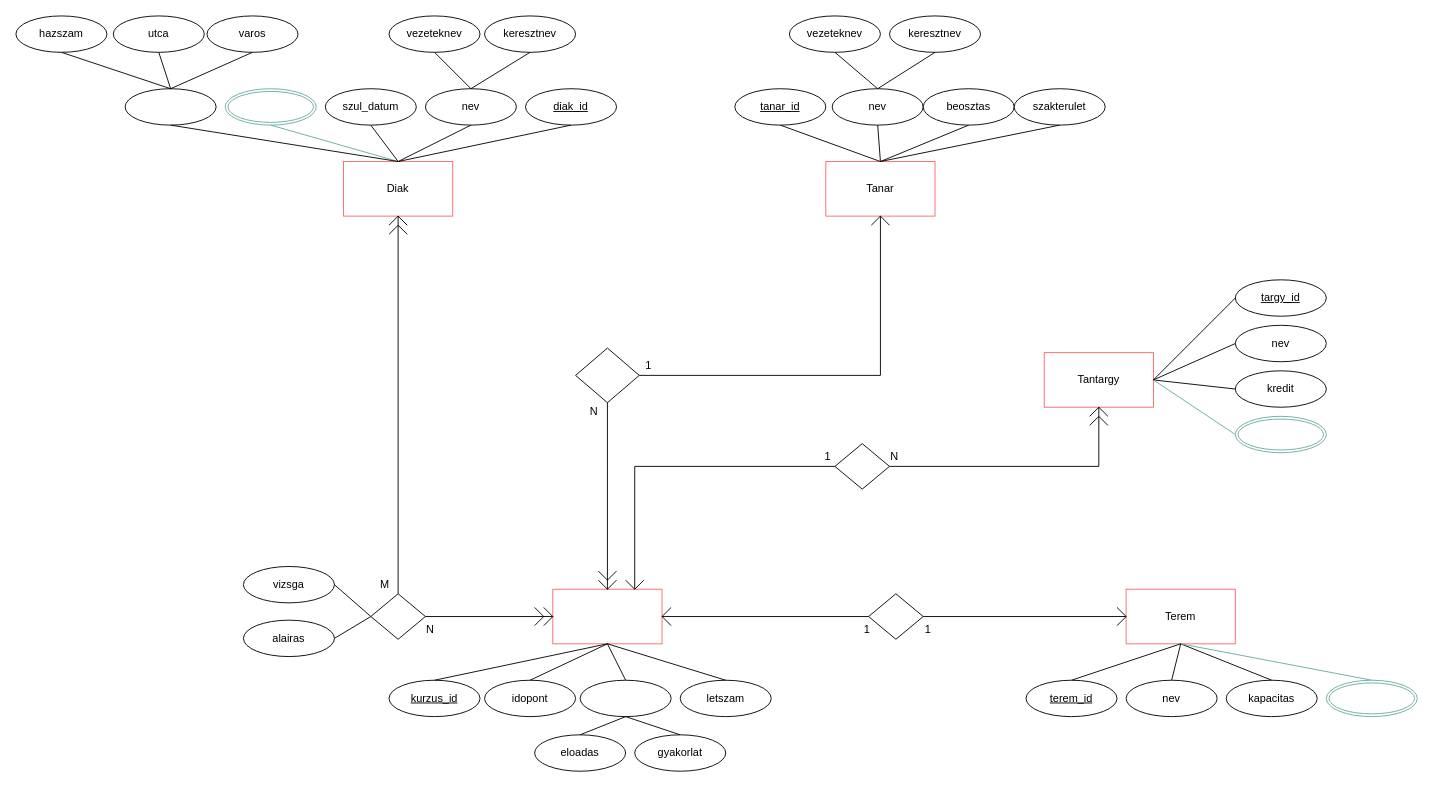
This 1433x787 diagram has some shape labels left out. The shapes that lost their labels are listed below. From the top down, each one's centre as x and y in pixels, then its label:
(x=170, y=106): lakcim
(x=270, y=106): email
(x=607, y=375): K-Tan
(x=1280, y=434): nyelv
(x=862, y=466): K-Tgy
(x=397, y=616): ertekeles
(x=607, y=616): Kurzus
(x=895, y=616): K-Ter
(x=625, y=698): tipus
(x=1371, y=698): felszerelés
